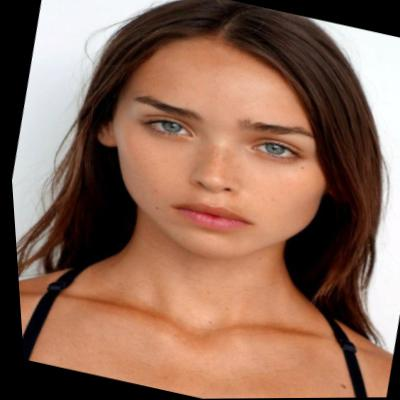netural: (77, 25, 361, 282)
